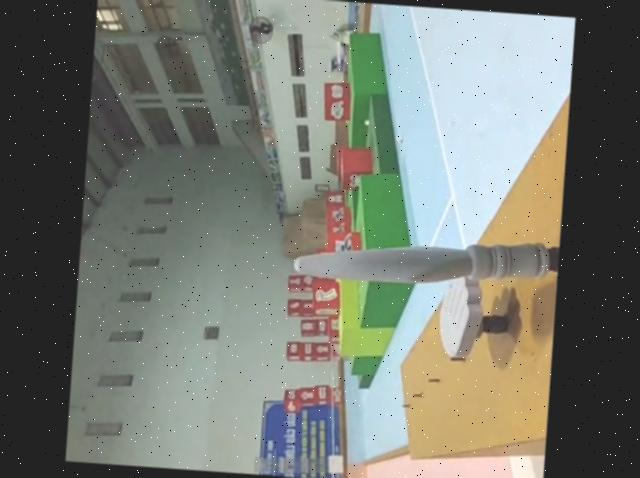Hand: (435, 273, 511, 360)
Sph: (290, 218, 560, 292)
